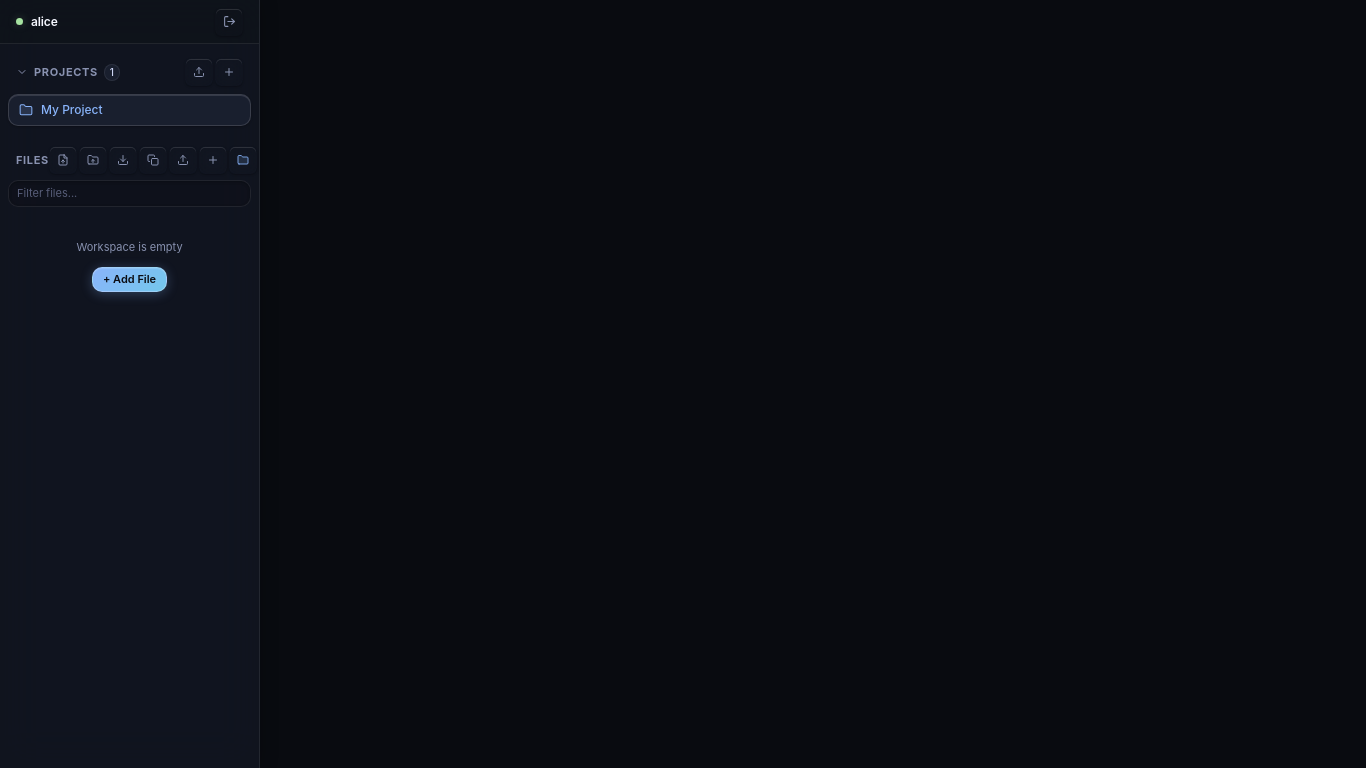
Test: Sidebar — Milestone 28 Fork Project UI › clicking Fork Project opens a name prompt pre-filled with a suggested fork name
Click the button titled "Fork Project". click: (153, 160)
box: [139,146,167,174]
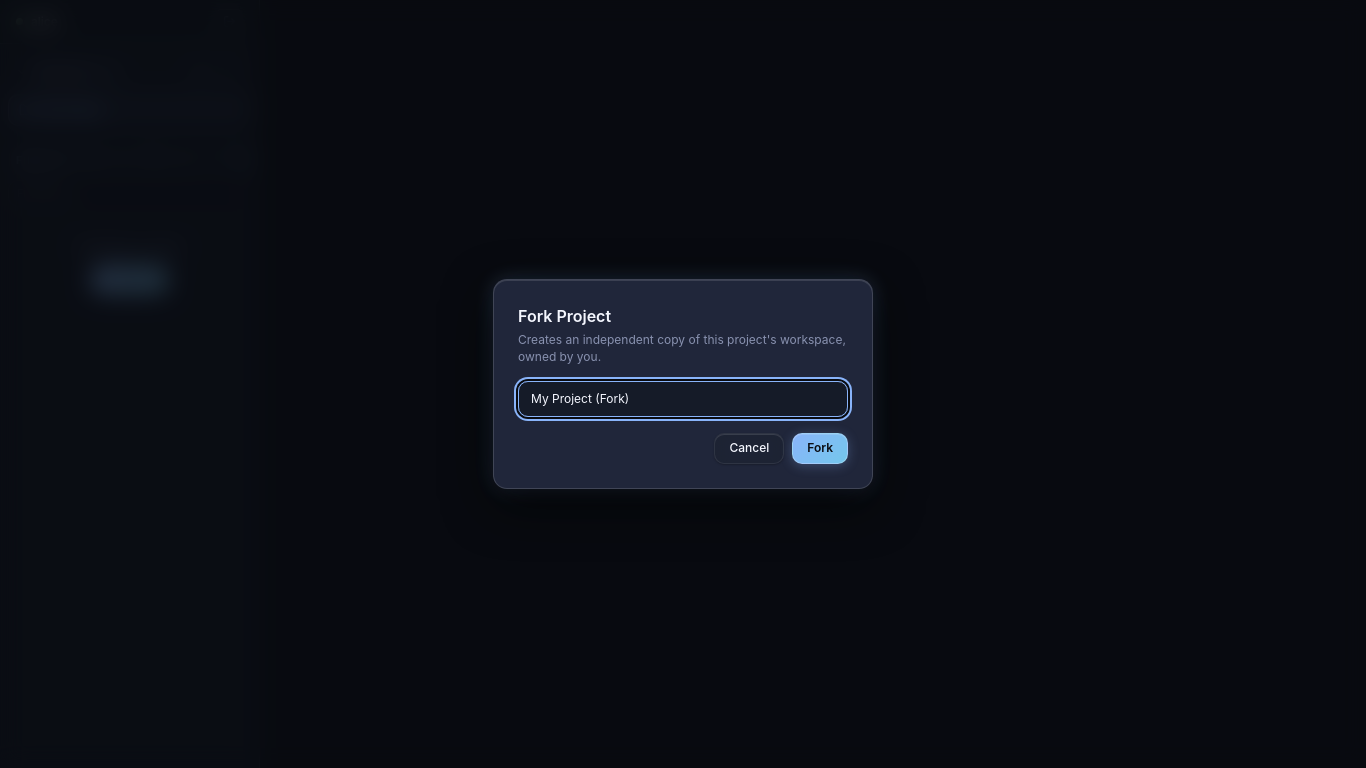
Now the field showing "My Project (Fork)" is shown, box [518,381,848,417]
